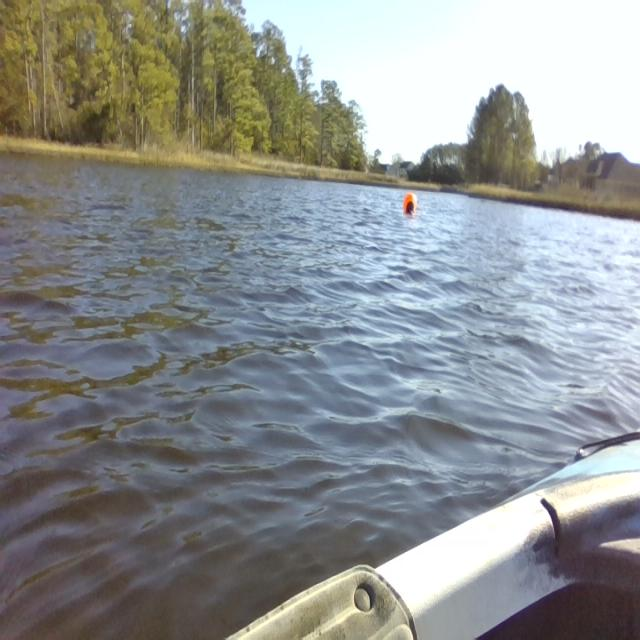Buoy: (400, 190, 421, 222)
